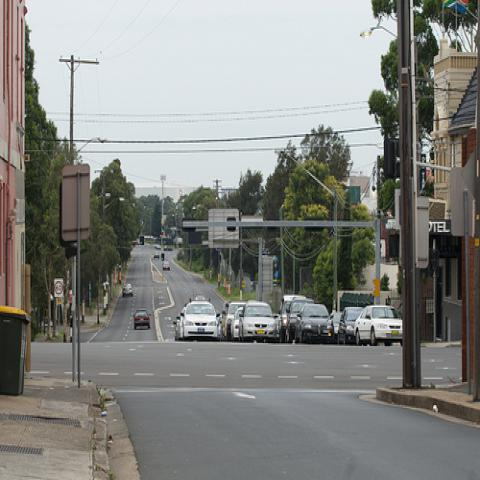car: (354, 305, 403, 347), (238, 300, 276, 346), (292, 302, 333, 344), (181, 300, 220, 338), (220, 301, 246, 342), (337, 307, 364, 346), (231, 307, 244, 341), (133, 308, 152, 330), (179, 303, 188, 338), (122, 284, 134, 298), (161, 260, 170, 271), (152, 251, 160, 260)
